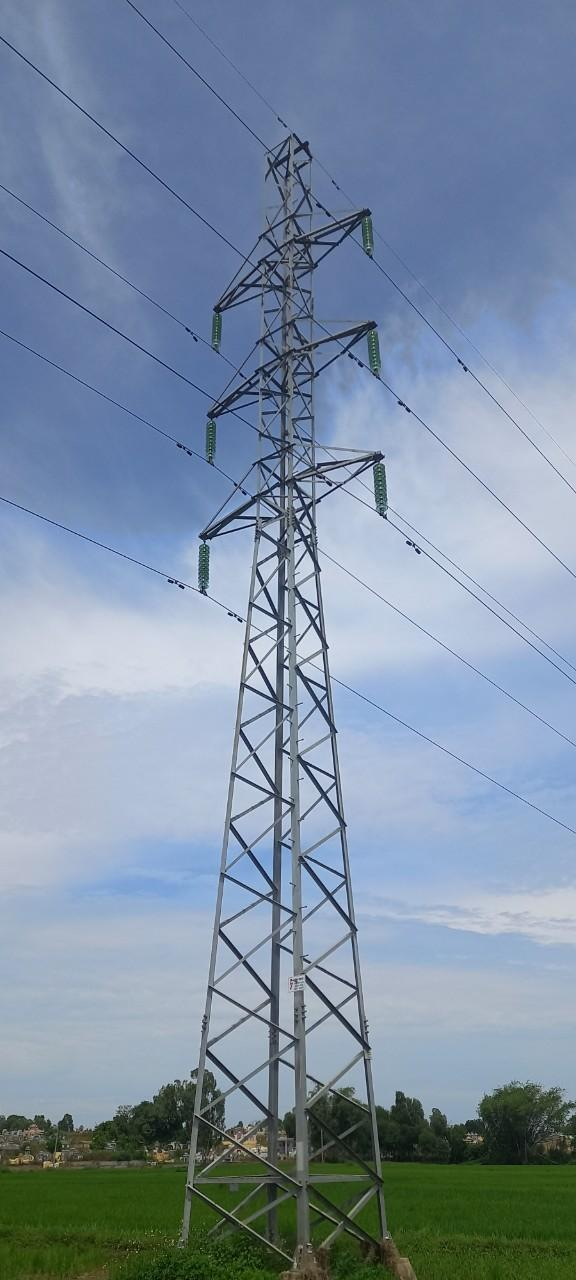power_tower: (188, 102, 394, 1252)
